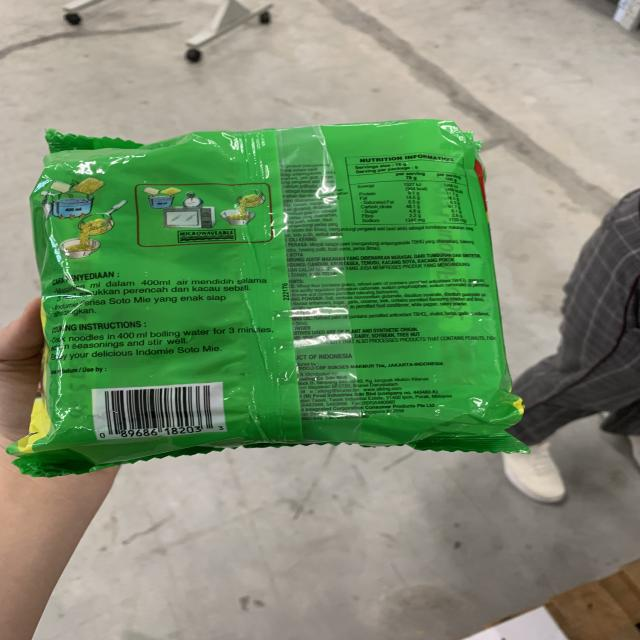object_name: (49, 142, 506, 443)
